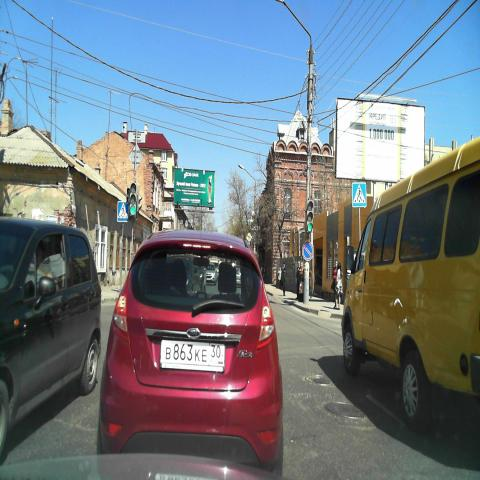3_28: (302, 240, 314, 261)
5_19_1: (352, 182, 366, 208), (117, 201, 128, 222)
